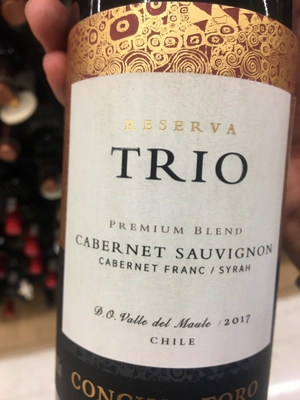trio cabernet sauvignon: (56, 1, 294, 400)
